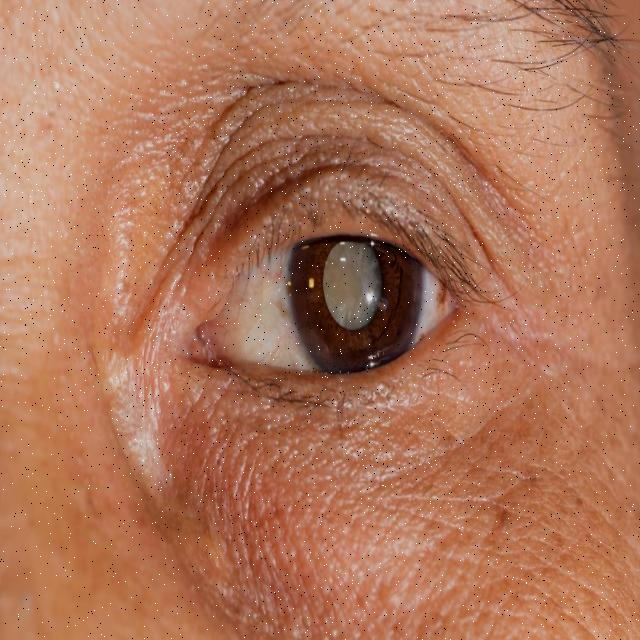Cataract: (142, 76, 551, 498)
